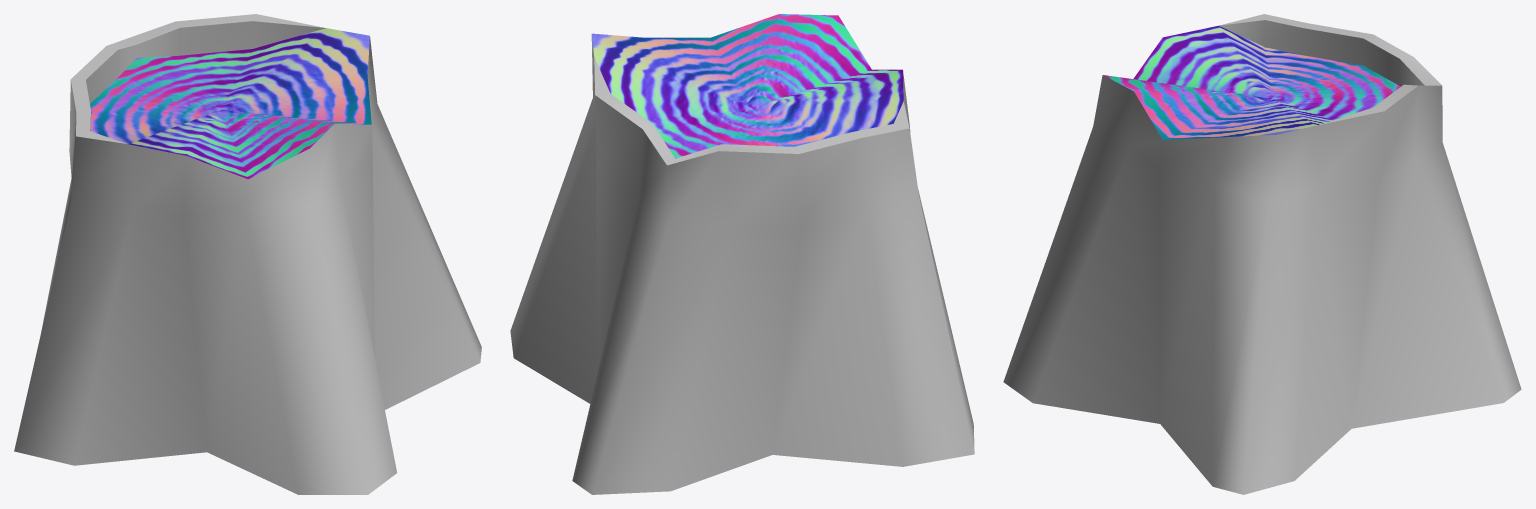
Rendered from sm_tree_02_stump.fbx.
The picture shows the model from 3 angles, left to right: view 1: azimuth 30°, elevation 25°; view 2: azimuth 150°, elevation 25°; view 3: azimuth 270°, elevation 25°; orthographic projection. The views are drawn at different scales.
Parts seen in each view (by area): view 1: sm_tree_02_stump; view 2: sm_tree_02_stump; view 3: sm_tree_02_stump.
Part boxes in pixels (box(x1,y1,x2,y2)): sm_tree_02_stump: box(14, 14, 481, 494); sm_tree_02_stump: box(510, 14, 974, 494); sm_tree_02_stump: box(1003, 14, 1521, 494).
Size of the model in its own units: 129 by 86.52 by 129.
